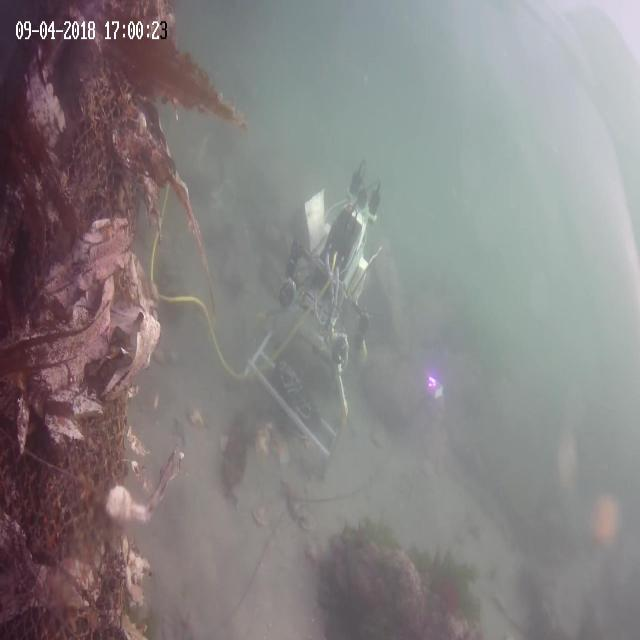scallop: (252, 502, 268, 526), (371, 426, 388, 448), (299, 509, 317, 529), (420, 457, 434, 481), (151, 342, 164, 366), (167, 346, 179, 364)
starfish: (590, 486, 625, 554), (271, 434, 290, 470), (462, 508, 482, 540), (171, 416, 189, 446), (225, 486, 242, 511)
